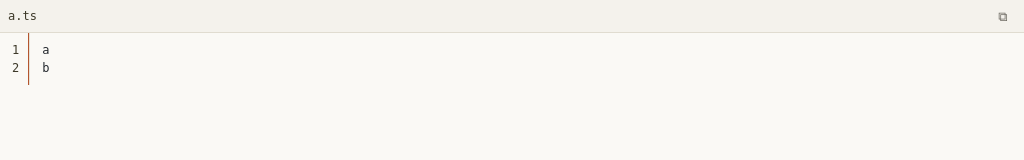
Test: FileViewer review comments › comments with C from the line numbers, and clears the selection with its ✕
The width and height of the screenshot is (1024, 160).
Type keys "{ArrowDown}c"
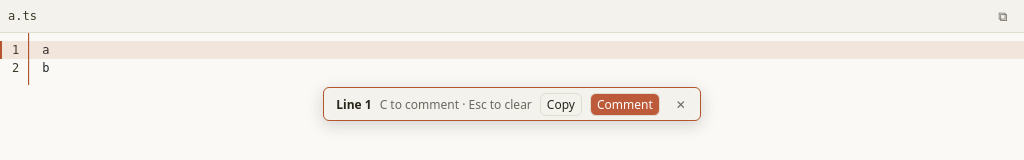
Click the button named "Clear the line selection" at (681, 104), box top-left (668, 92), bottom-right (694, 116)
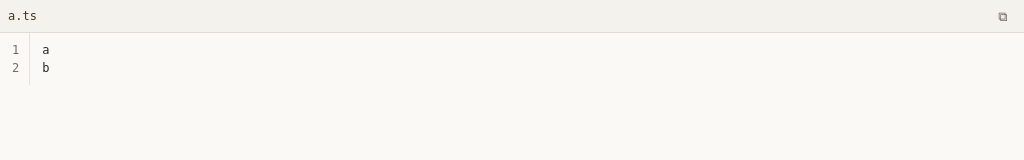
Check: the text "comment" is gone
